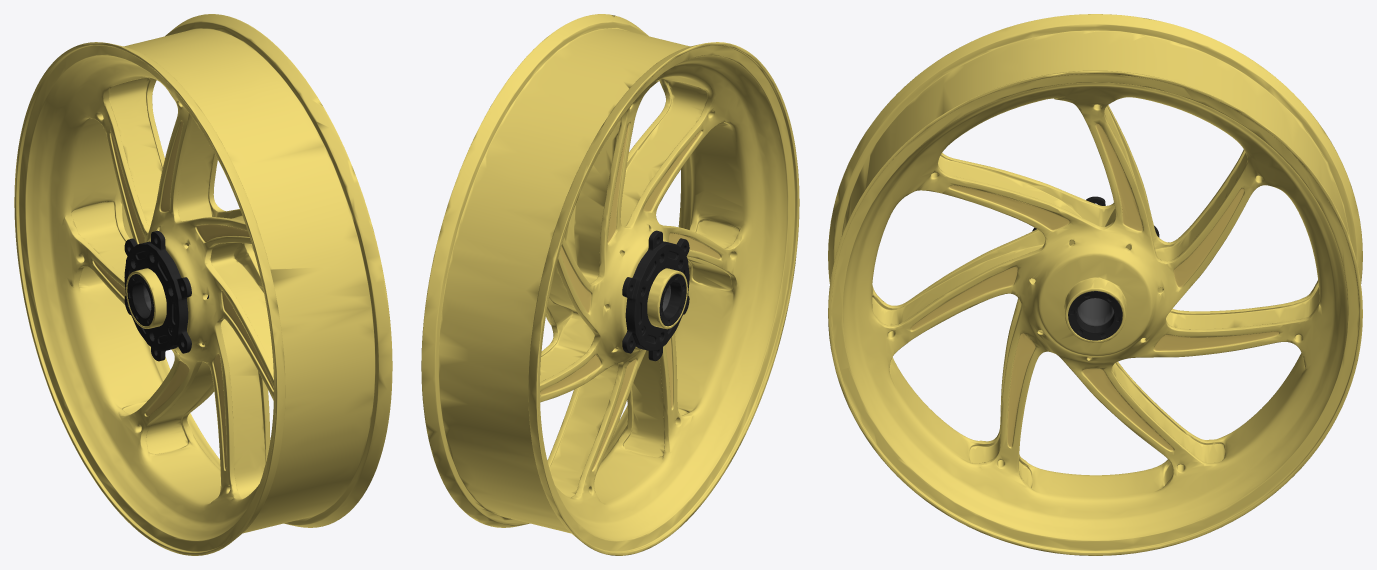
File: cerchio_lega.glb
3 views of the same model, side by side, from view 1: azimuth 30°, elevation 25°; view 2: azimuth 150°, elevation 25°; view 3: azimuth 270°, elevation 25° (orthographic).
Parts seen in each view (by area): view 1: Object_4, Object_8, Object_6; view 2: Object_4, Object_8, Object_6; view 3: Object_4, Object_6, Object_8, Object_14.
Boxes of the visible parts, left/top/right/bottom form: Object_4: left=14, top=14, right=392, bottom=555; Object_8: left=124, top=230, right=191, bottom=361; Object_6: left=94, top=121, right=273, bottom=469; Object_4: left=421, top=14, right=799, bottom=555; Object_8: left=622, top=230, right=689, bottom=361; Object_6: left=540, top=123, right=720, bottom=470; Object_4: left=828, top=14, right=1362, bottom=555; Object_6: left=910, top=123, right=1279, bottom=450; Object_8: left=1032, top=196, right=1159, bottom=340; Object_14: left=1076, top=298, right=1114, bottom=326.
Bounding box in the file's own units: 0.138 × 0.5 × 0.5.
